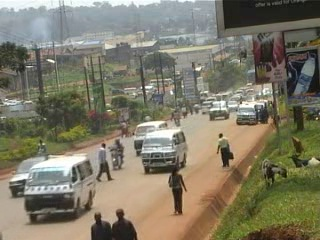Car: (7, 154, 49, 199), (207, 99, 230, 120), (200, 99, 212, 117), (224, 100, 240, 112)
Motorcycle: (107, 136, 125, 172), (179, 102, 188, 120), (191, 100, 199, 115)
